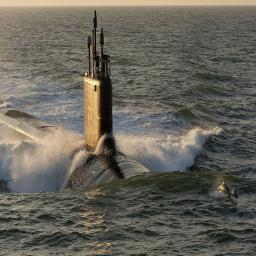submarine: (1, 10, 164, 187)
